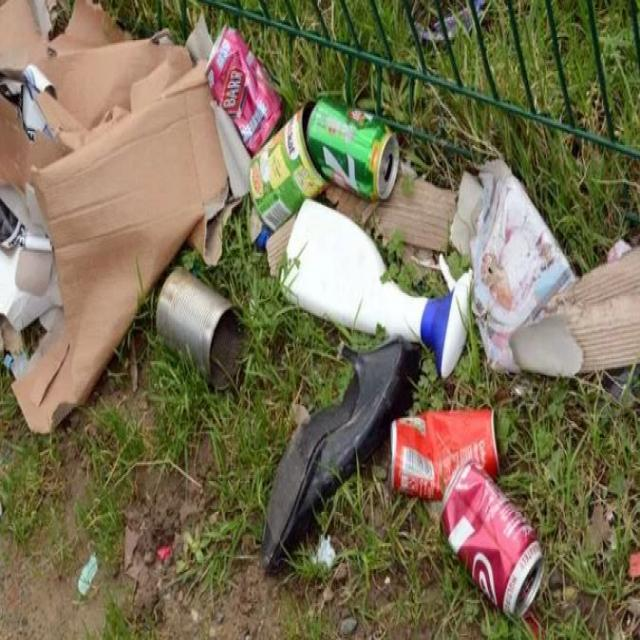metal: (433, 449, 561, 624), (242, 97, 354, 238), (149, 256, 255, 402), (386, 403, 510, 512), (307, 84, 409, 208), (202, 17, 284, 150)
paper: (0, 102, 119, 433), (450, 146, 577, 391)
plastic: (281, 194, 481, 385)
